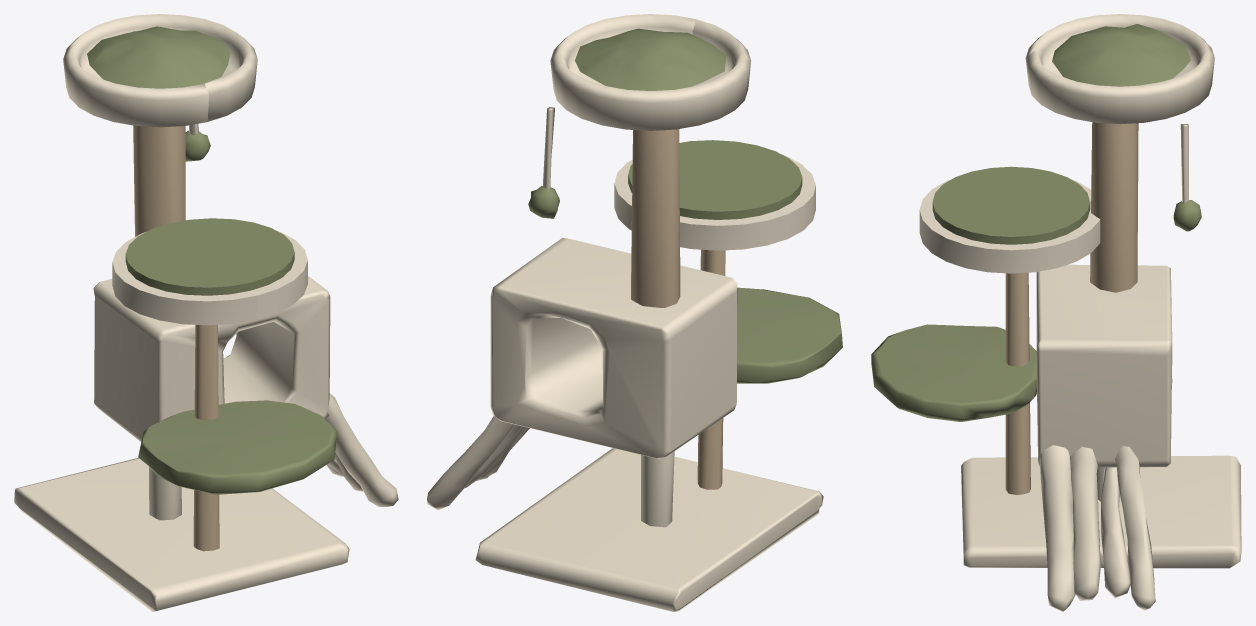
The model's file is living-cat-tree-geometry.glb.
The picture shows the model from 3 angles, left to right: view 1: azimuth 30°, elevation 25°; view 2: azimuth 150°, elevation 25°; view 3: azimuth 270°, elevation 25°; orthographic projection. The views are drawn at different scales.
Bounding box in the file's own units: 1.34 × 2.15 × 1.49.
